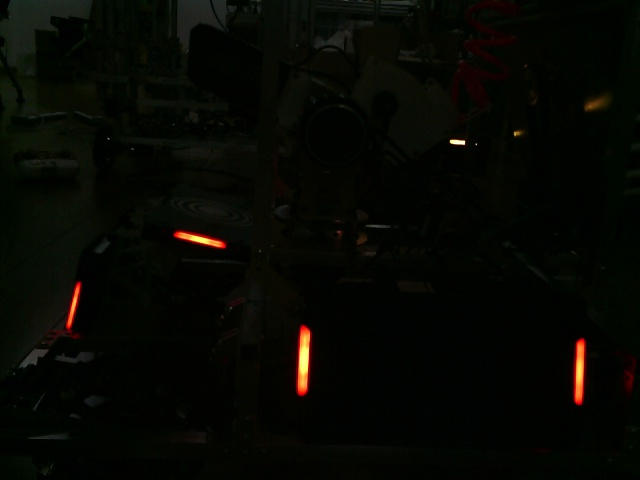lamp: (295, 323, 313, 400), (64, 278, 83, 334), (573, 337, 587, 408)
